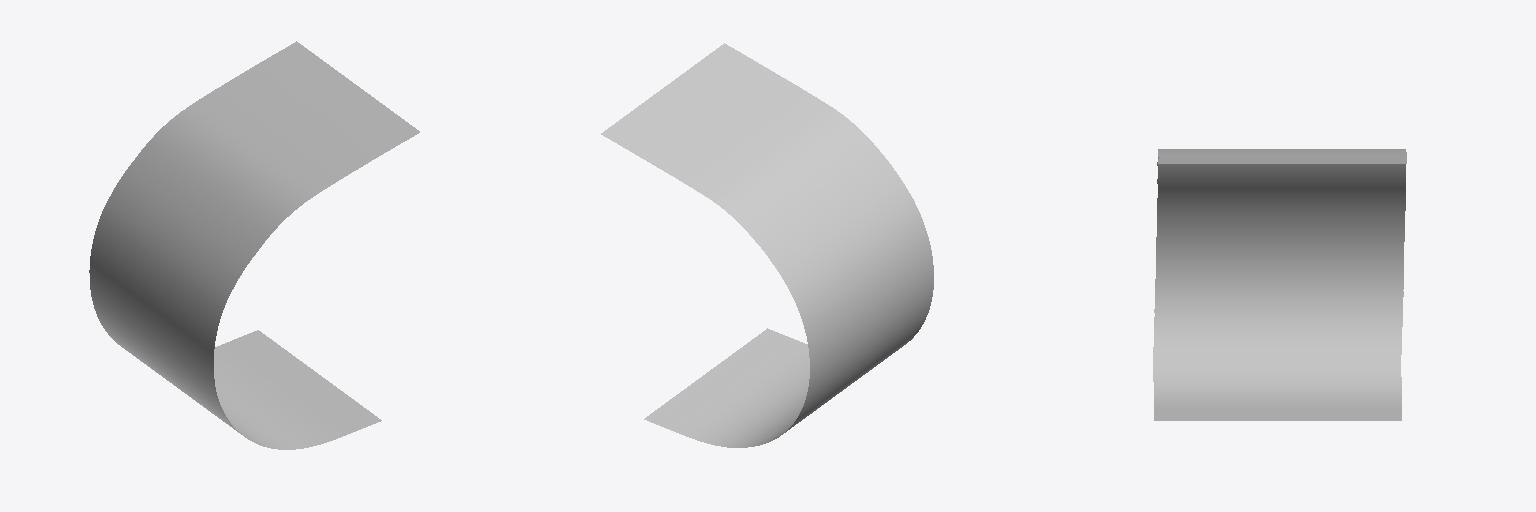
The model's file is Data_20100324_01_041.obj.
3 views of the same model, side by side, from view 1: azimuth 30°, elevation 25°; view 2: azimuth 150°, elevation 25°; view 3: azimuth 270°, elevation 25° (orthographic).
Visible parts, largest first — view 1: mesh; view 2: mesh; view 3: mesh.
Boxes of the visible parts, x1=… form: mesh: x1=89, y1=41, x2=419, y2=449; mesh: x1=601, y1=43, x2=933, y2=447; mesh: x1=1153, y1=149, x2=1406, y2=420.
Size of the model in its own units: 6586 by 8626 by 6951.